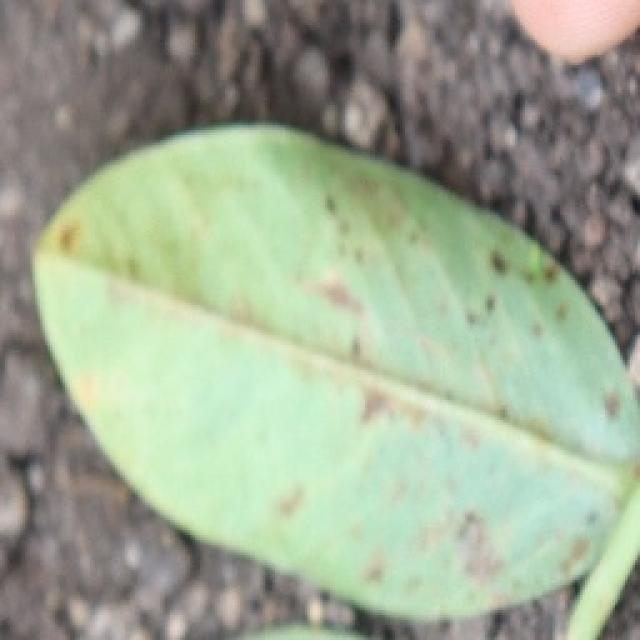Whitefly: (24, 142, 608, 596)
